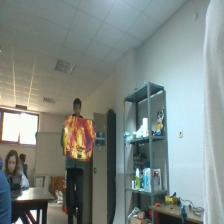fire-poster: (63, 117, 95, 160)
